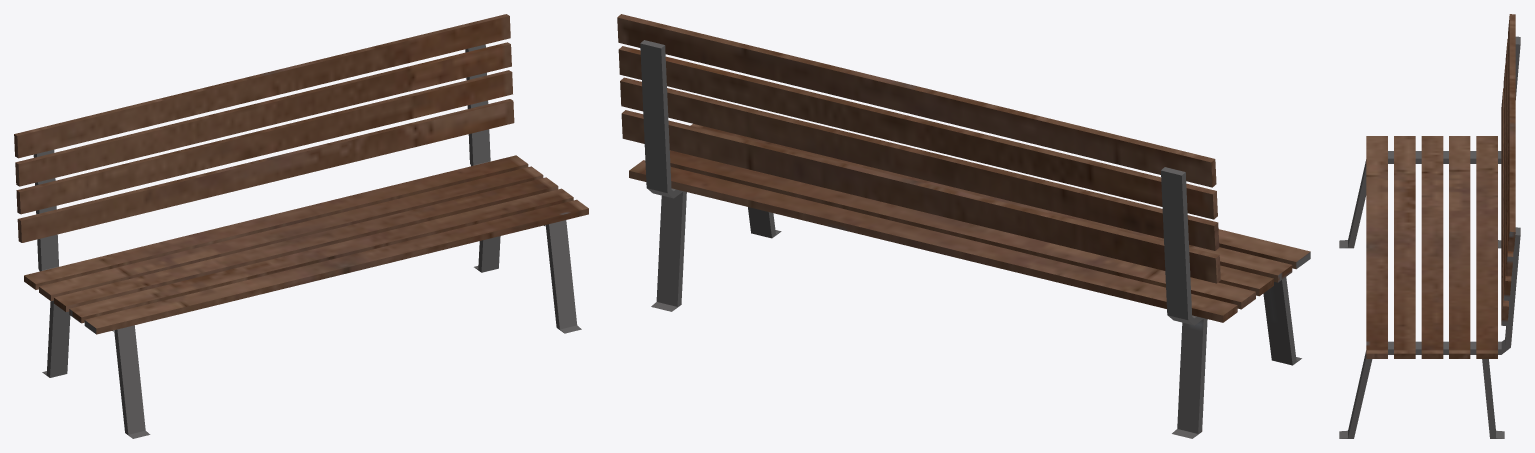
Rendered from Bench.fbx.
The picture shows the model from 3 angles, left to right: view 1: azimuth 30°, elevation 25°; view 2: azimuth 150°, elevation 25°; view 3: azimuth 270°, elevation 25°; orthographic projection. The views are drawn at different scales.
Visible parts, largest first — view 1: Bench_LOD0; view 2: Bench_LOD0; view 3: Bench_LOD0.
Boxes of the visible parts, <box> form: Bench_LOD0: <box>14,14,588,438</box>; Bench_LOD0: <box>617,14,1310,438</box>; Bench_LOD0: <box>1339,14,1520,438</box>.
Size of what is drawn, in the model's own units: 82.46 by 38.31 by 29.
